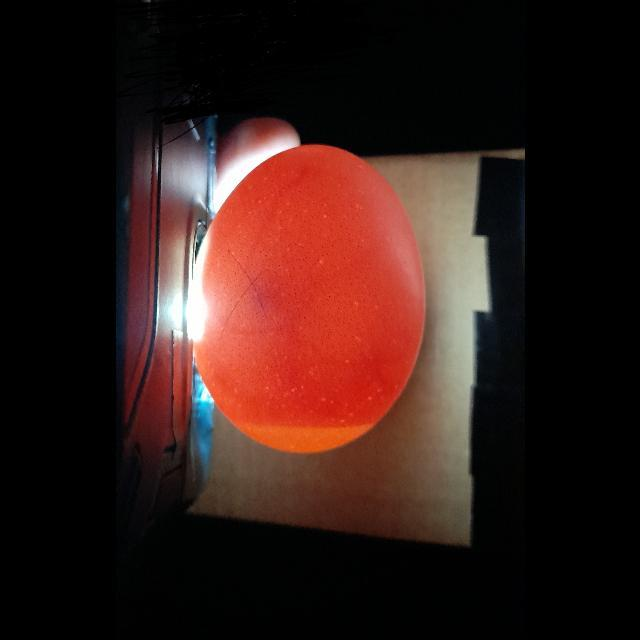Fertile: (190, 146, 434, 464)
